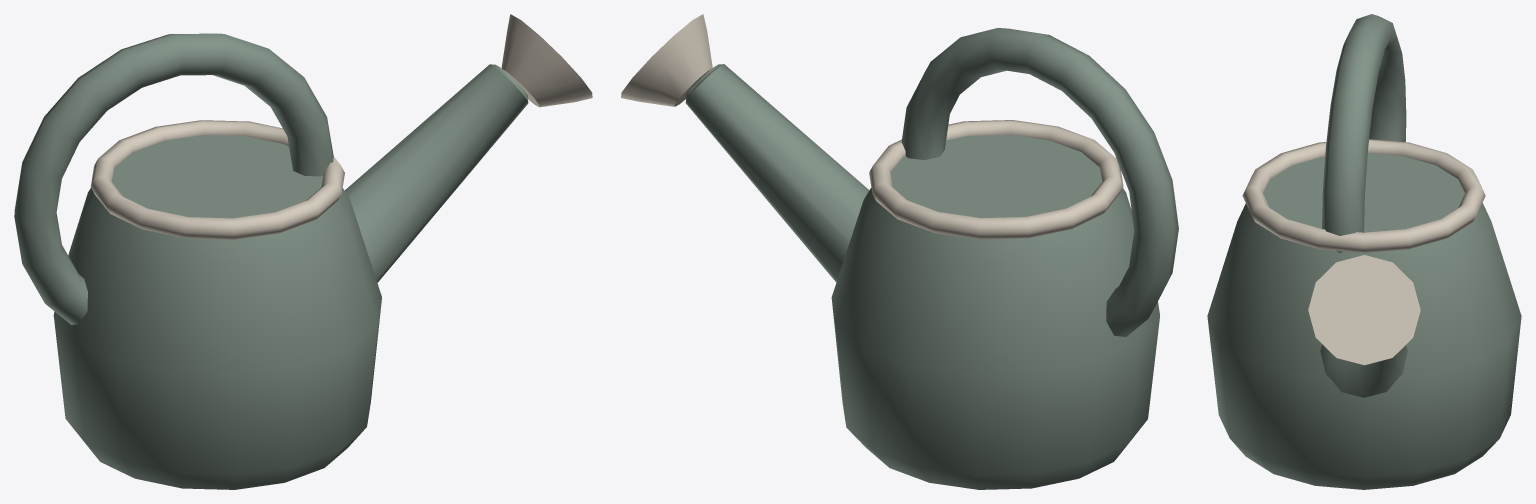
Rendered from prop_watering_can.glb.
The picture shows the model from 3 angles, left to right: view 1: azimuth 30°, elevation 25°; view 2: azimuth 150°, elevation 25°; view 3: azimuth 270°, elevation 25°; orthographic projection. The views are drawn at different scales.
Visible parts, largest first — view 1: watering_can_body, watering_can_handle, watering_can_spout, watering_can_lip, watering_can_rose; view 2: watering_can_body, watering_can_handle, watering_can_spout, watering_can_lip, watering_can_rose; view 3: watering_can_body, watering_can_handle, watering_can_rose, watering_can_lip, watering_can_spout.
Part boxes in pixels (x1,y1,x2,y2): watering_can_body: (53, 135, 381, 489); watering_can_handle: (14, 33, 333, 324); watering_can_spout: (344, 64, 528, 282); watering_can_lip: (90, 120, 344, 239); watering_can_rose: (501, 14, 592, 107); watering_can_body: (831, 134, 1159, 489); watering_can_handle: (901, 28, 1178, 336); watering_can_spout: (685, 64, 869, 282); watering_can_lip: (869, 120, 1123, 239); watering_can_rose: (621, 14, 712, 106); watering_can_body: (1207, 153, 1521, 489); watering_can_handle: (1322, 14, 1406, 253); watering_can_rose: (1308, 255, 1420, 365); watering_can_lip: (1242, 139, 1485, 252); watering_can_spout: (1320, 344, 1407, 397).
Size of the model in its own units: 1.28 by 0.905 by 0.6638.
